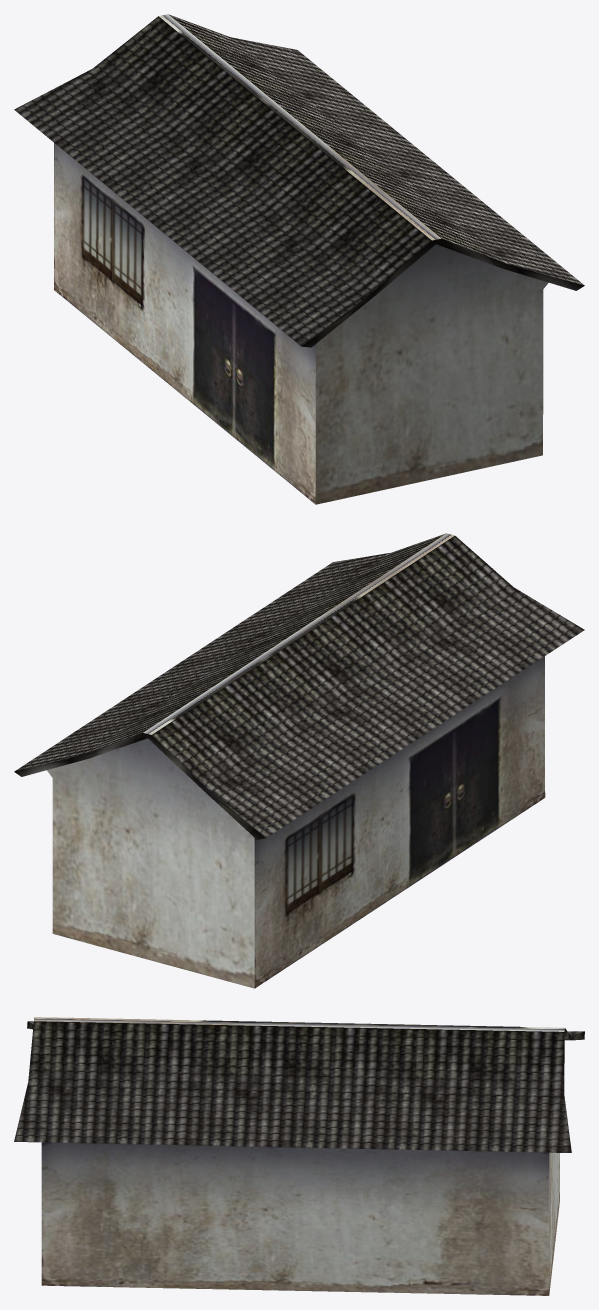
The model's file is ian1605.obj.
3 renders of one model, top to bottom at view 1: azimuth 30°, elevation 25°; view 2: azimuth 150°, elevation 25°; view 3: azimuth 270°, elevation 25°, orthographic. The views are drawn at different scales.
Visible parts, largest first — view 1: ian1605; view 2: ian1605; view 3: ian1605.
Boxes of the visible parts, bbox=[...] form: ian1605: bbox=[14, 14, 584, 504]; ian1605: bbox=[14, 533, 584, 988]; ian1605: bbox=[14, 1017, 584, 1295].
Bounding box in the file's own units: 127 × 99.21 × 235.
